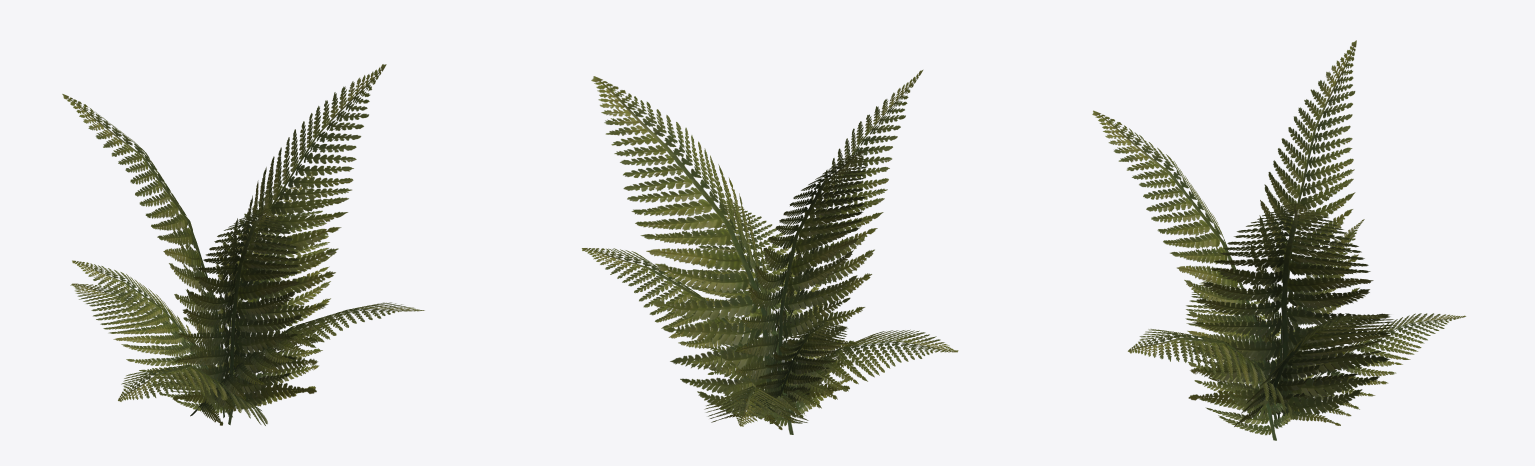
The model's file is m_plant_02.glb.
The picture shows the model from 3 angles, left to right: view 1: azimuth 30°, elevation 25°; view 2: azimuth 150°, elevation 25°; view 3: azimuth 270°, elevation 25°; orthographic projection. The views are drawn at different scales.
Visible parts, largest first — view 1: Picsart_24-11-03_17-17-16-746.006; view 2: Picsart_24-11-03_17-17-16-746.006; view 3: Picsart_24-11-03_17-17-16-746.006.
Boxes of the visible parts, bbox=[...] form: Picsart_24-11-03_17-17-16-746.006: bbox=[62, 64, 424, 425]; Picsart_24-11-03_17-17-16-746.006: bbox=[581, 69, 958, 434]; Picsart_24-11-03_17-17-16-746.006: bbox=[1092, 40, 1466, 440].
Size of the model in its own units: 0.9536 by 0.7687 by 1.01.
Materials: 1 (1 with a texture image).
